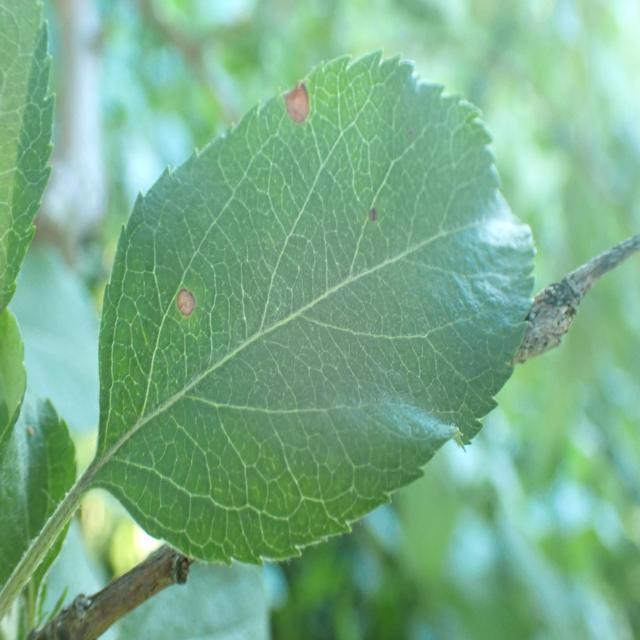Black Rot: (275, 74, 326, 138), (158, 274, 215, 331), (354, 190, 391, 222)
